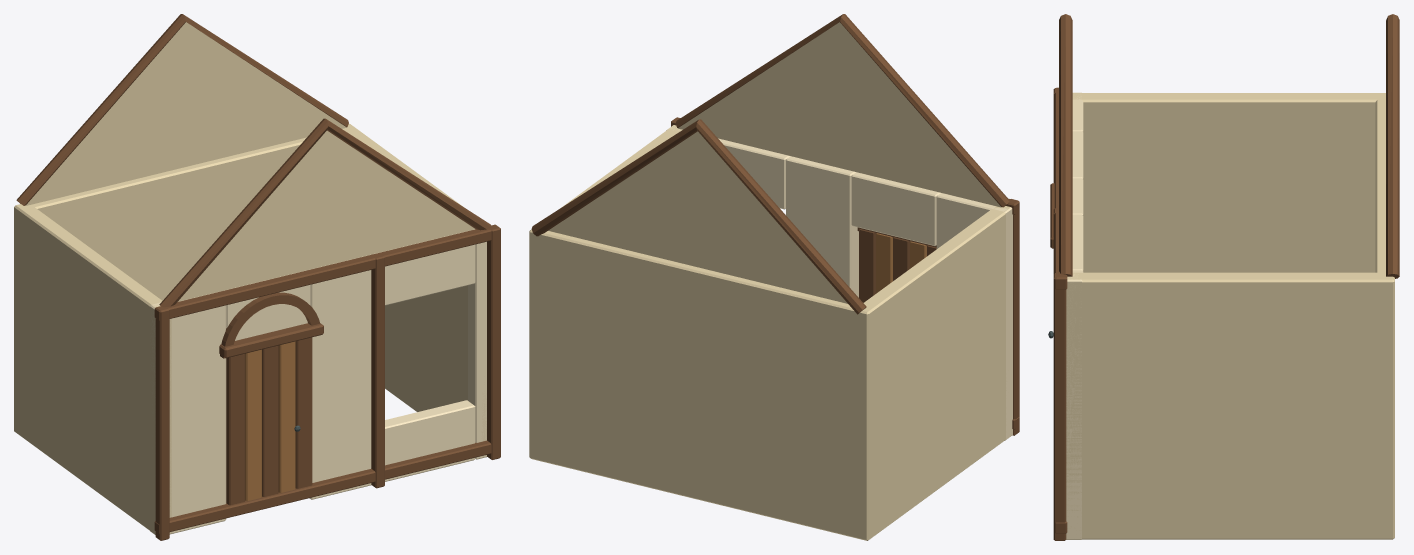
File: CottageWall.glb
3 renders of one model, left to right at view 1: azimuth 30°, elevation 25°; view 2: azimuth 150°, elevation 25°; view 3: azimuth 270°, elevation 25°, orthographic. The views are drawn at different scales.
Visible parts, largest first — view 1: CottageWall; view 2: CottageWall; view 3: CottageWall.
Boxes of the visible parts, box(x1,y1,x2,y2) form: CottageWall: box(14, 14, 500, 540); CottageWall: box(529, 14, 1019, 540); CottageWall: box(1048, 14, 1399, 540).
Bounding box in the file's own units: 4.5 × 4.75 × 3.5.
